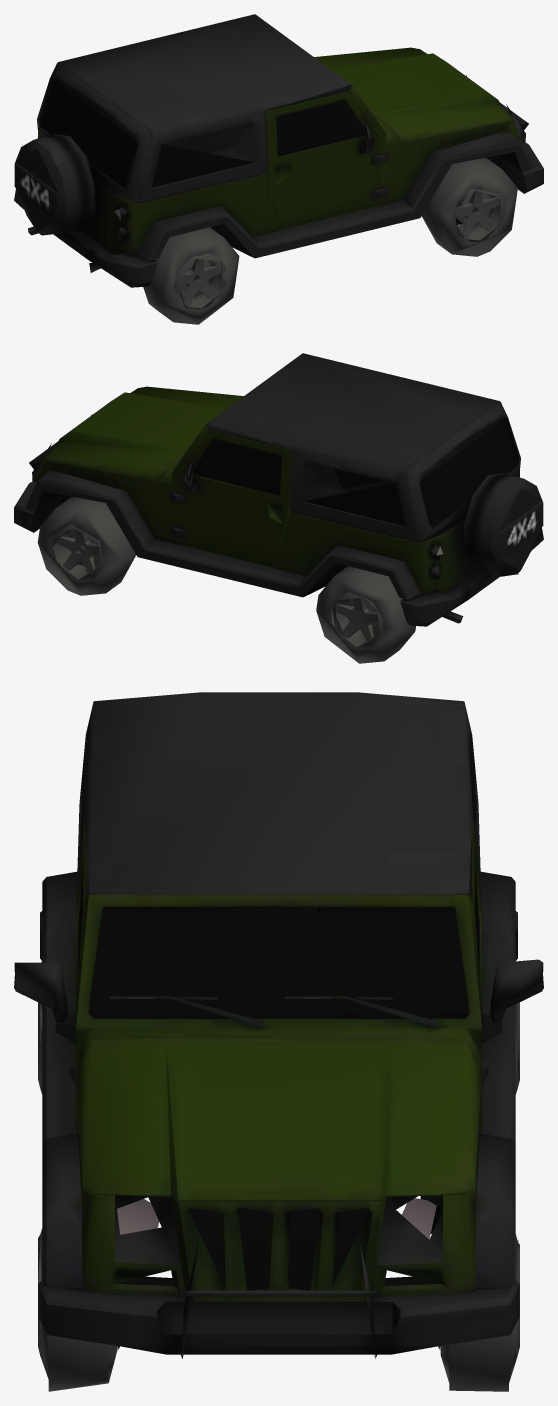
The model's file is pc-offroad.lod1.glb.
The picture shows the model from 3 angles, top to bottom: view 1: azimuth 30°, elevation 25°; view 2: azimuth 150°, elevation 25°; view 3: azimuth 270°, elevation 25°; orthographic projection. The views are drawn at different scales.
Parts seen in each view (by area): view 1: Offroad Body_Body_0, Wheel_G_Wheel_0; view 2: Offroad Body_Body_0, Wheel_G_Wheel_0; view 3: Offroad Body_Body_0, Wheel_G_Wheel_0.
Boxes of the visible parts, x1,y1,x2,y2 form: Offroad Body_Body_0: [14, 14, 543, 287]; Wheel_G_Wheel_0: [39, 76, 517, 324]; Offroad Body_Body_0: [14, 353, 543, 626]; Wheel_G_Wheel_0: [37, 415, 518, 663]; Offroad Body_Body_0: [14, 692, 543, 1358]; Wheel_G_Wheel_0: [38, 752, 519, 1391].
Bounding box in the file's own units: 3.9 × 1.57 × 1.95.
2 materials, 1 textured.
